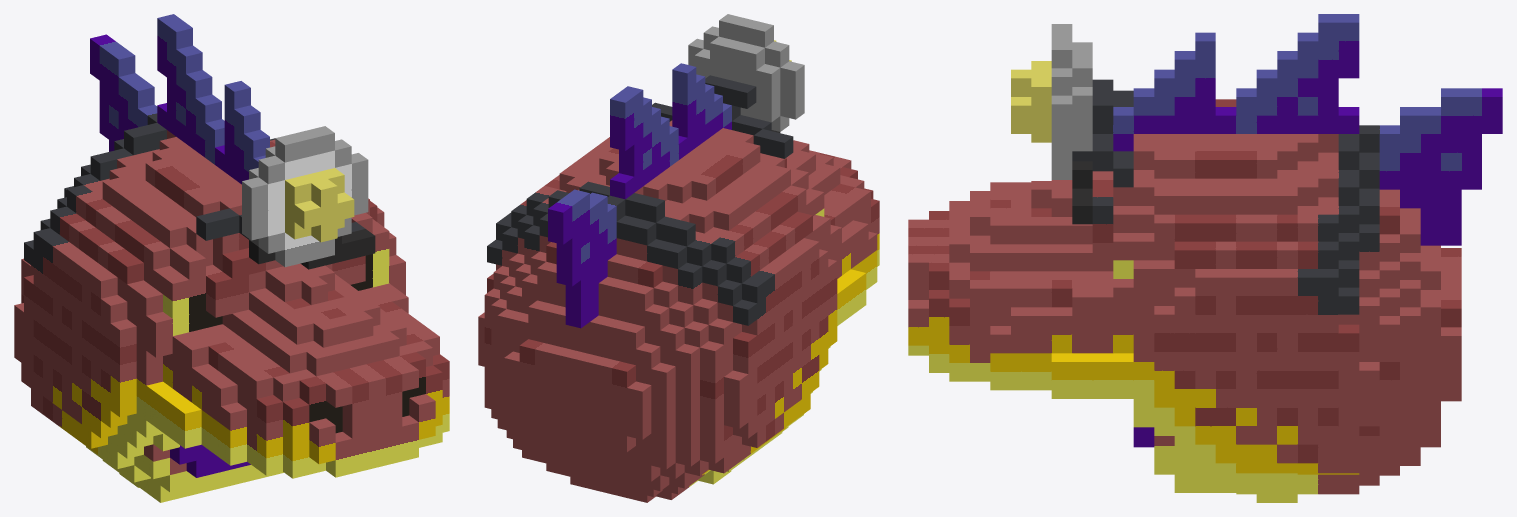
File: doctor_eye patch.gltf
The picture shows the model from 3 angles, left to right: view 1: azimuth 30°, elevation 25°; view 2: azimuth 150°, elevation 25°; view 3: azimuth 270°, elevation 25°; orthographic projection. The views are drawn at different scales.
Visible parts, largest first — view 1: C15_H_DoctorL_EyeP_SkyDiving-Mesh; view 2: C15_H_DoctorL_EyeP_SkyDiving-Mesh; view 3: C15_H_DoctorL_EyeP_SkyDiving-Mesh.
Boxes of the visible parts, bbox=[...] form: C15_H_DoctorL_EyeP_SkyDiving-Mesh: bbox=[14, 14, 449, 502]; C15_H_DoctorL_EyeP_SkyDiving-Mesh: bbox=[478, 14, 879, 502]; C15_H_DoctorL_EyeP_SkyDiving-Mesh: bbox=[908, 14, 1502, 502].
Bounding box in the file's own units: 17 × 24 × 29.
1 material, 1 textured.
